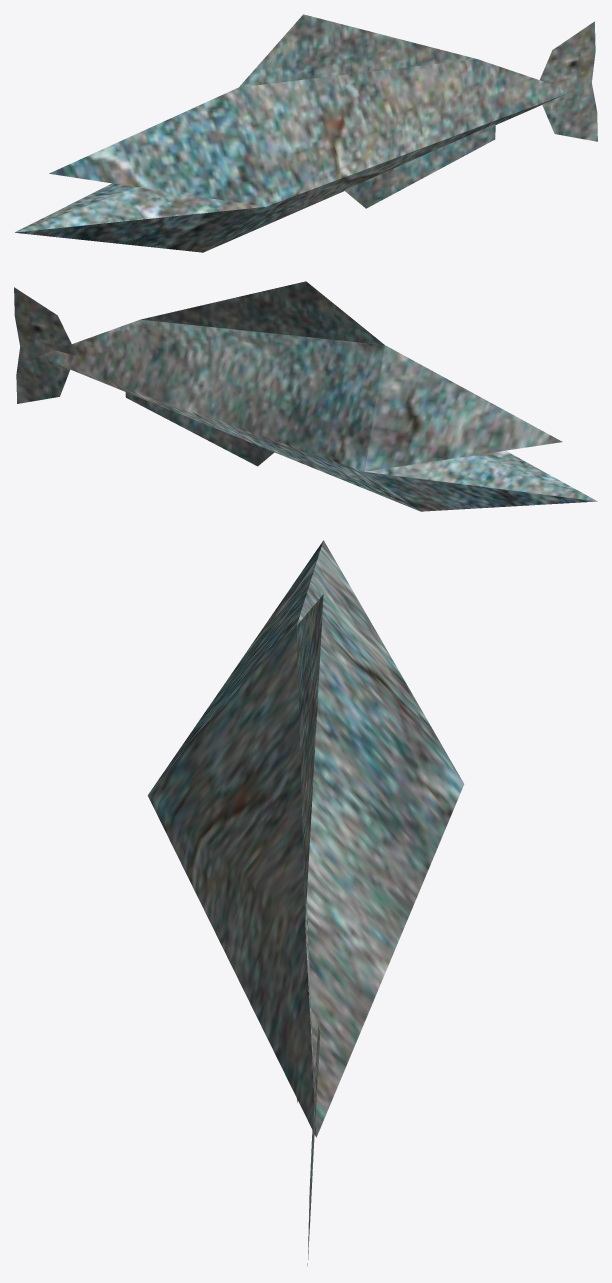
File: Toothfish_B.fbx
3 renders of one model, top to bottom at view 1: azimuth 30°, elevation 25°; view 2: azimuth 150°, elevation 25°; view 3: azimuth 270°, elevation 25°, orthographic. The views are drawn at different scales.
Visible parts, largest first — view 1: polySurface1; view 2: polySurface1; view 3: polySurface1.
Boxes of the visible parts, <box> form: polySurface1: <box>14,14,597,252</box>; polySurface1: <box>14,281,597,511</box>; polySurface1: <box>147,540,464,1265</box>.
Size of the model in its own units: 5.52 by 1.89 by 1.31.
1 material, 1 textured.
